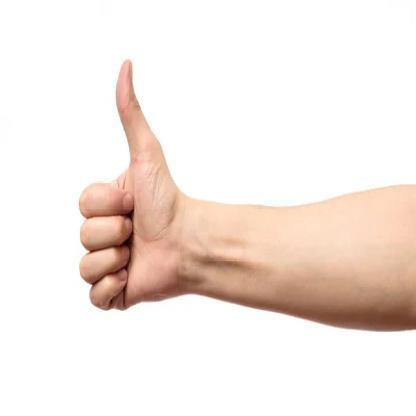thumb_up: (75, 54, 193, 314)
